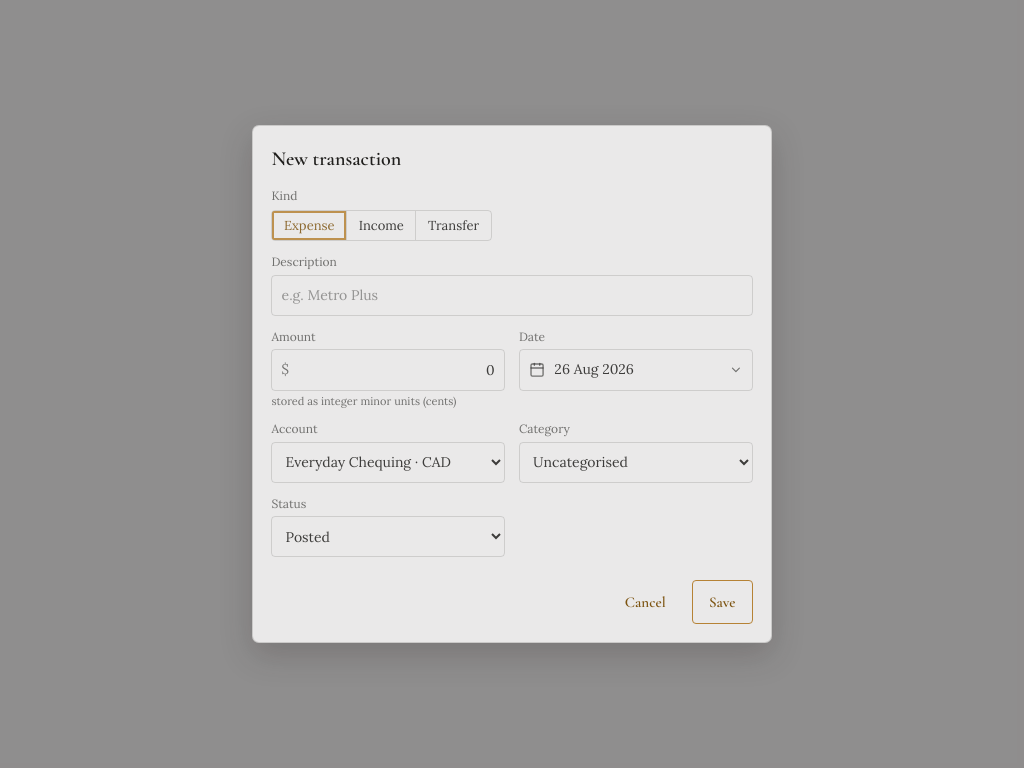
a detail for a field this form does not have is shown rather than swallowed
The width and height of the screenshot is (1024, 768).
In the field labelled "Description": [512, 295] box x1=271 y1=275 x2=753 y2=316, type "Metro Plus"
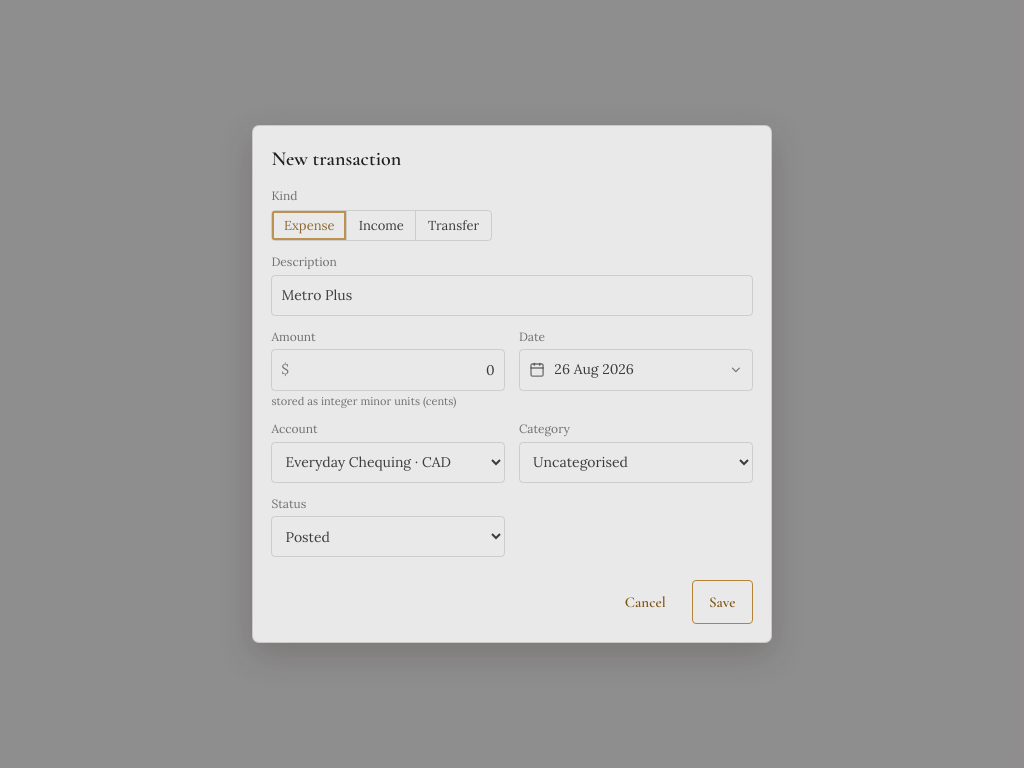
Replace the text in the field labelled "Amount" with "1000": [397, 370] box x1=298 y1=350 x2=495 y2=390
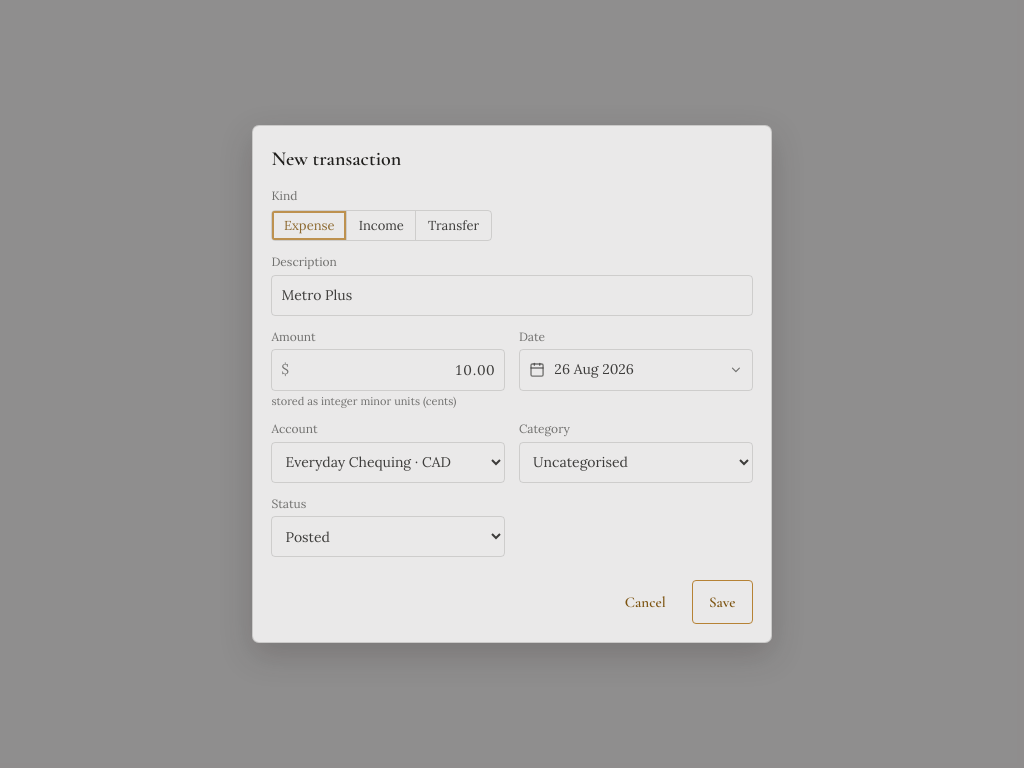
Click the button "Save": [722, 602] box x1=692 y1=580 x2=753 y2=624
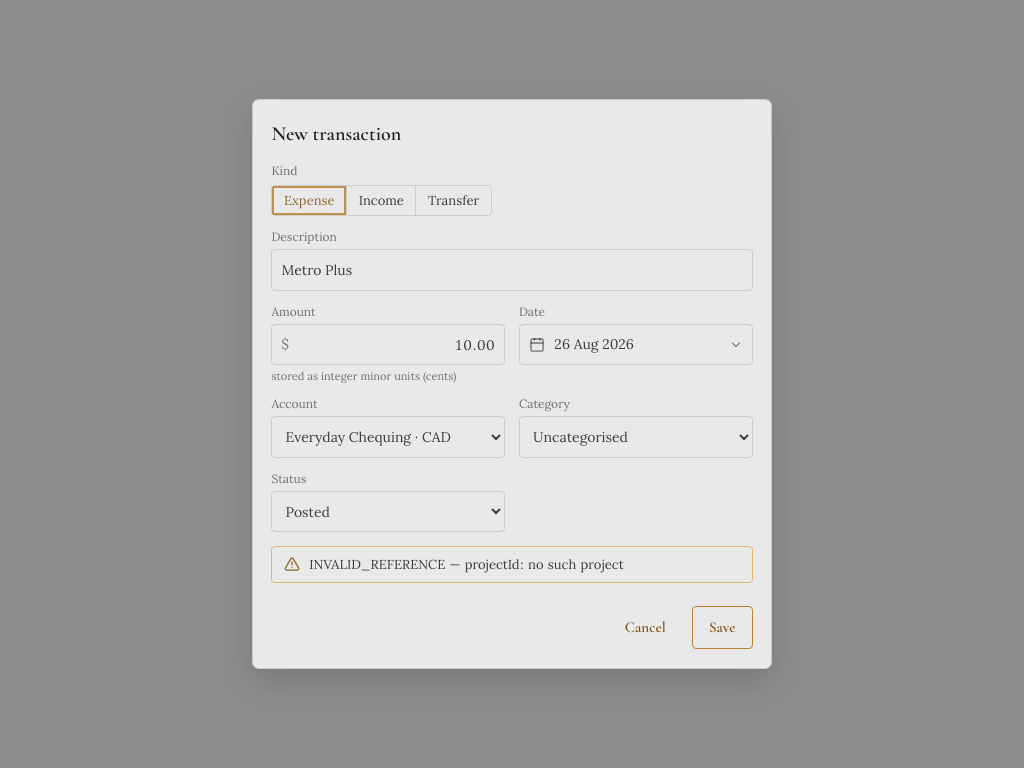
Now the text "INVALID_REFERENCE — projectId: no such project" is shown, box x1=309 y1=557 x2=624 y2=572
